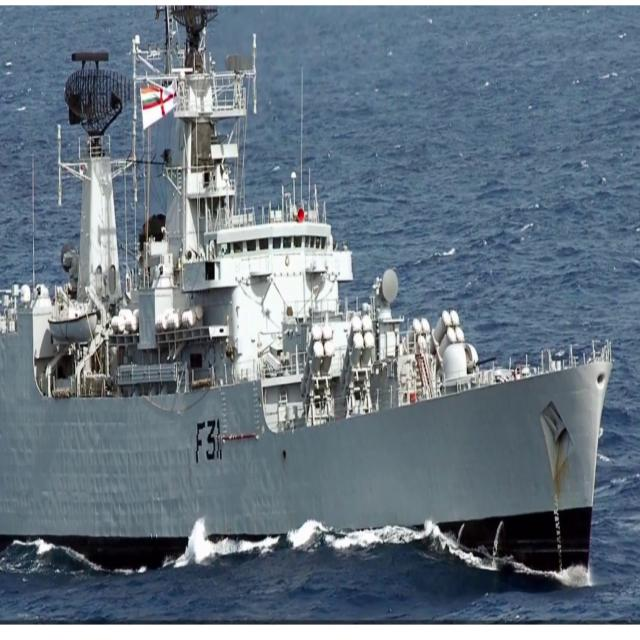OCR: (190, 409, 223, 468)
